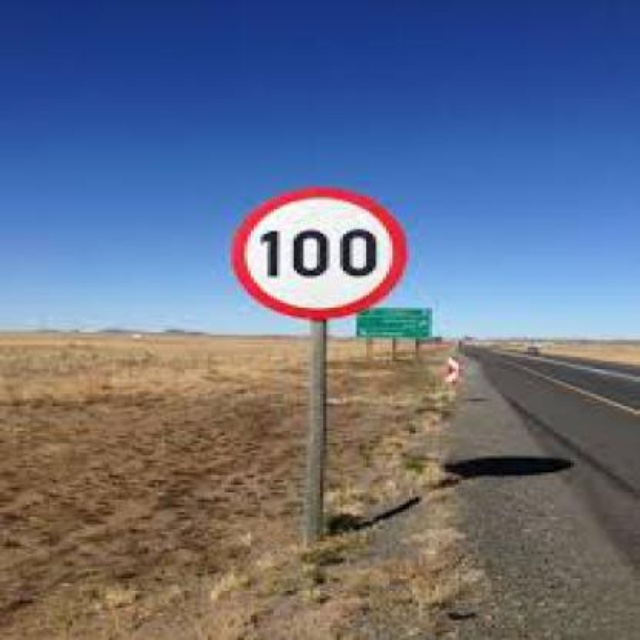Tốc độ tối đa cho phép 100km/h: (232, 188, 405, 318)
